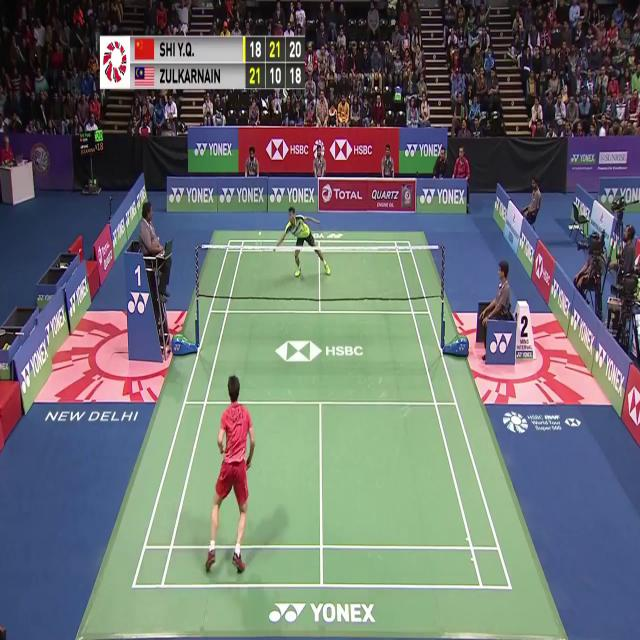Shuttlecock: (256, 227, 263, 239)
